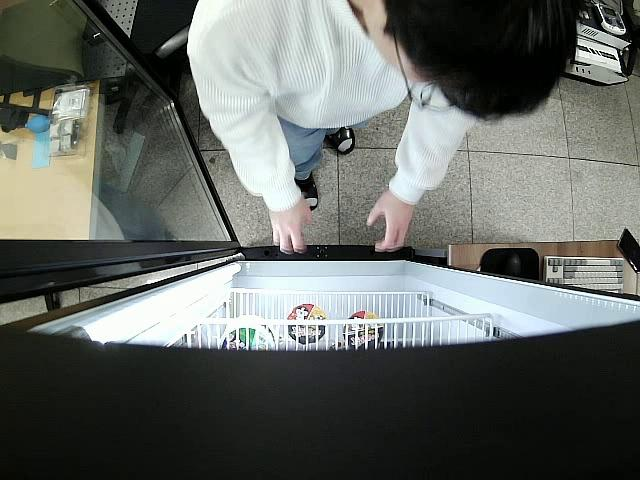00_hand: (366, 189, 415, 253), (267, 192, 314, 255)
